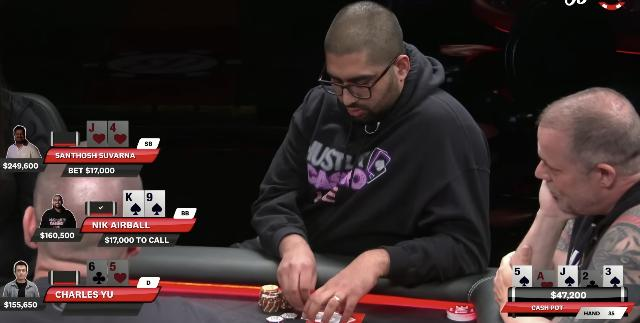2C: (581, 271, 599, 287)
3S: (604, 266, 622, 288)
4H: (109, 122, 128, 146)
5H: (109, 261, 128, 285)
5S: (514, 266, 530, 288)
6C: (88, 260, 106, 286)
9S: (146, 192, 164, 216)
AH: (536, 271, 554, 287)
JH: (88, 122, 106, 146)
JS: (560, 267, 576, 287)
KS: (124, 191, 142, 217)
